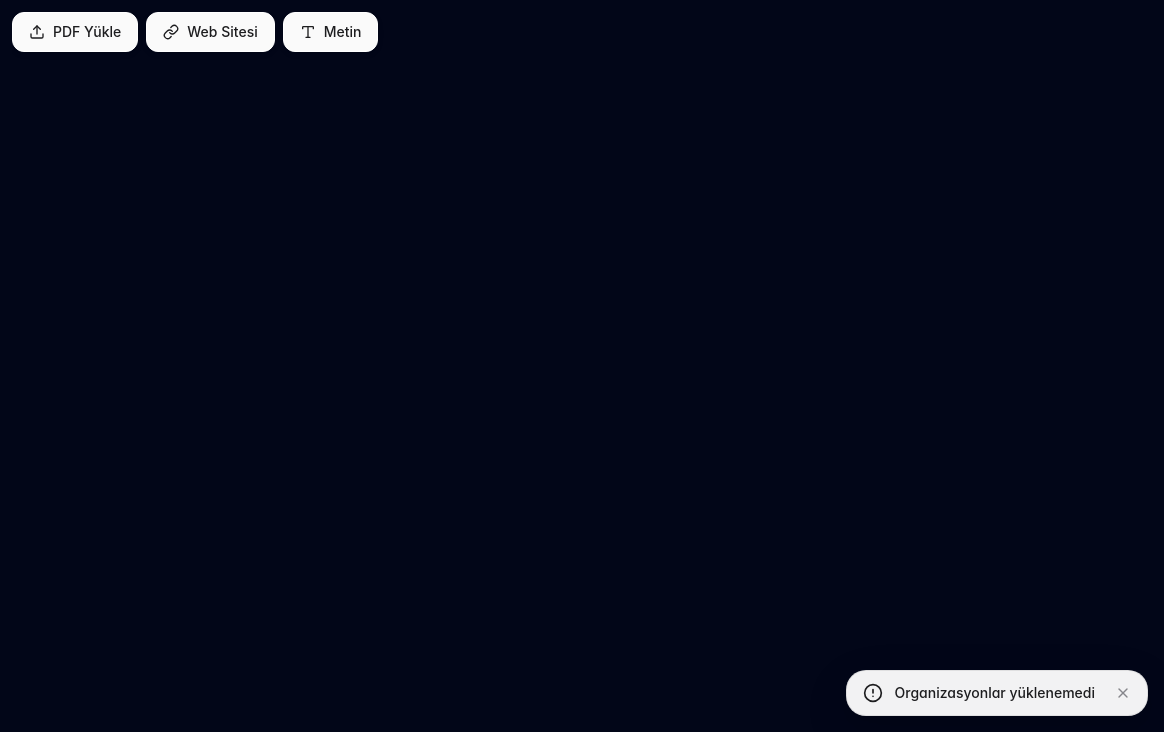
Test case: SourceUploader › validates URL format client-side and shows error toast
Click the button "Web Sitesi" at (210, 32), box [146,12,275,52]
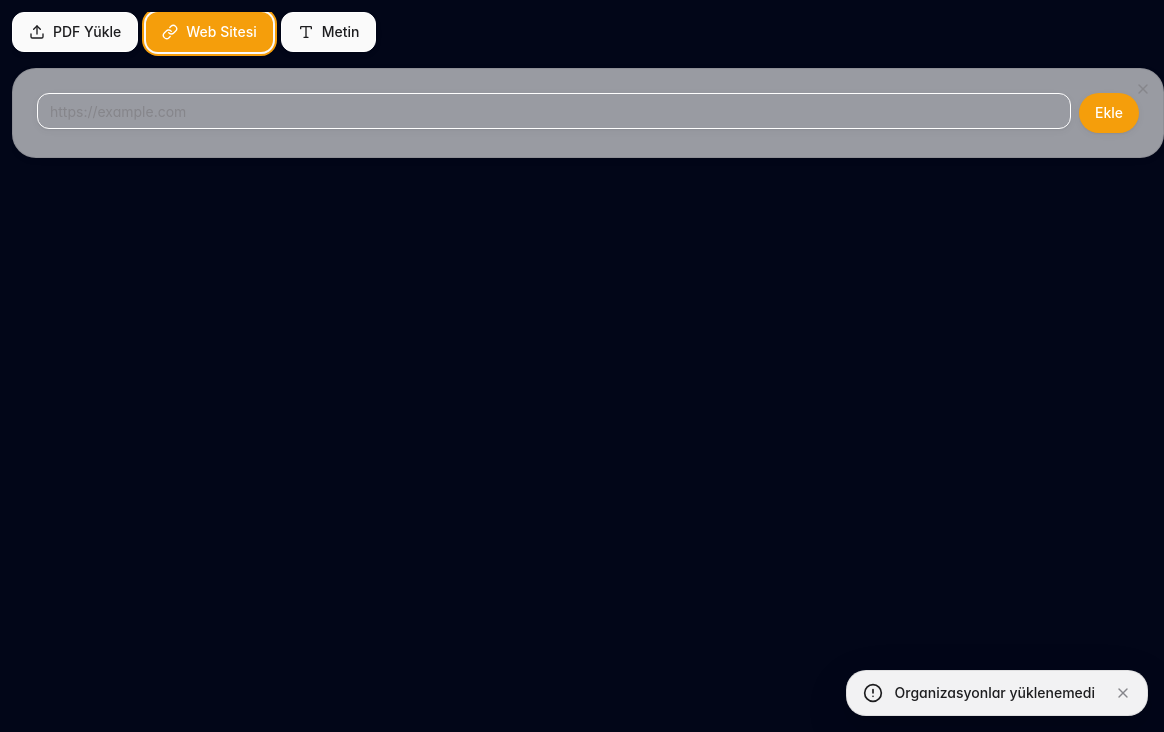
Type "not-a-url" into the field with placeholder "https://example.com" at (554, 111), box [37,93,1071,129]
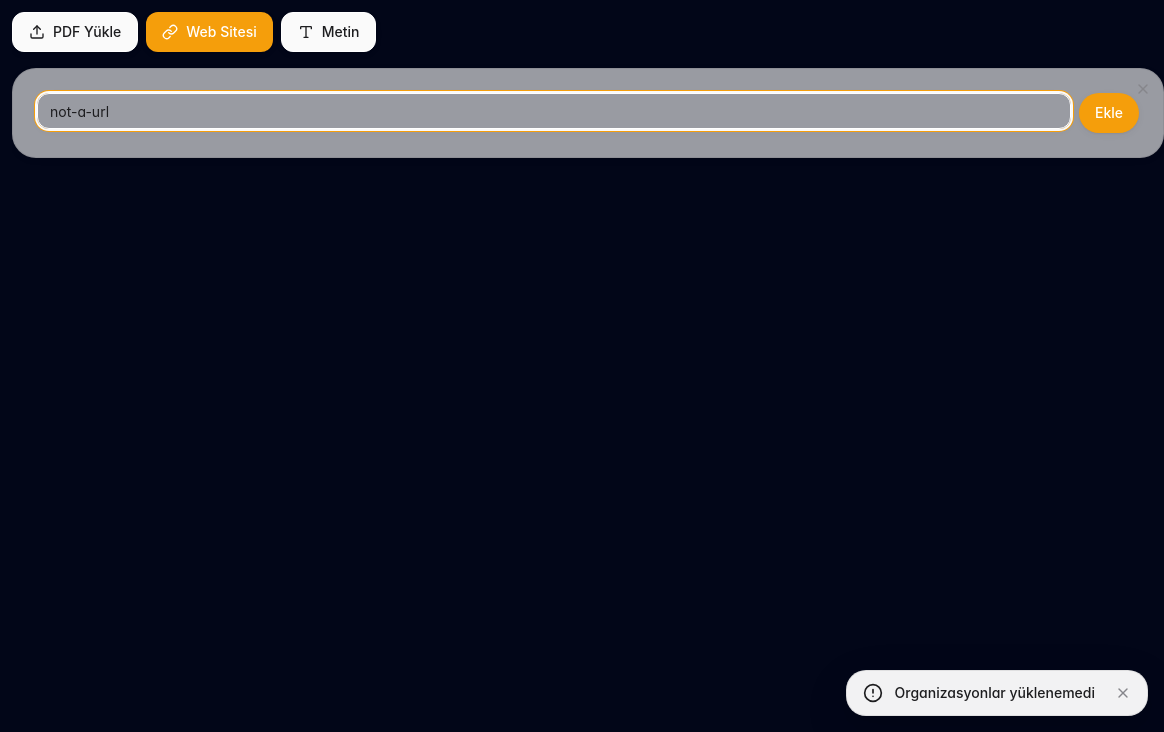
Click the button "Ekle" at (1109, 113), box [1079,93,1139,133]
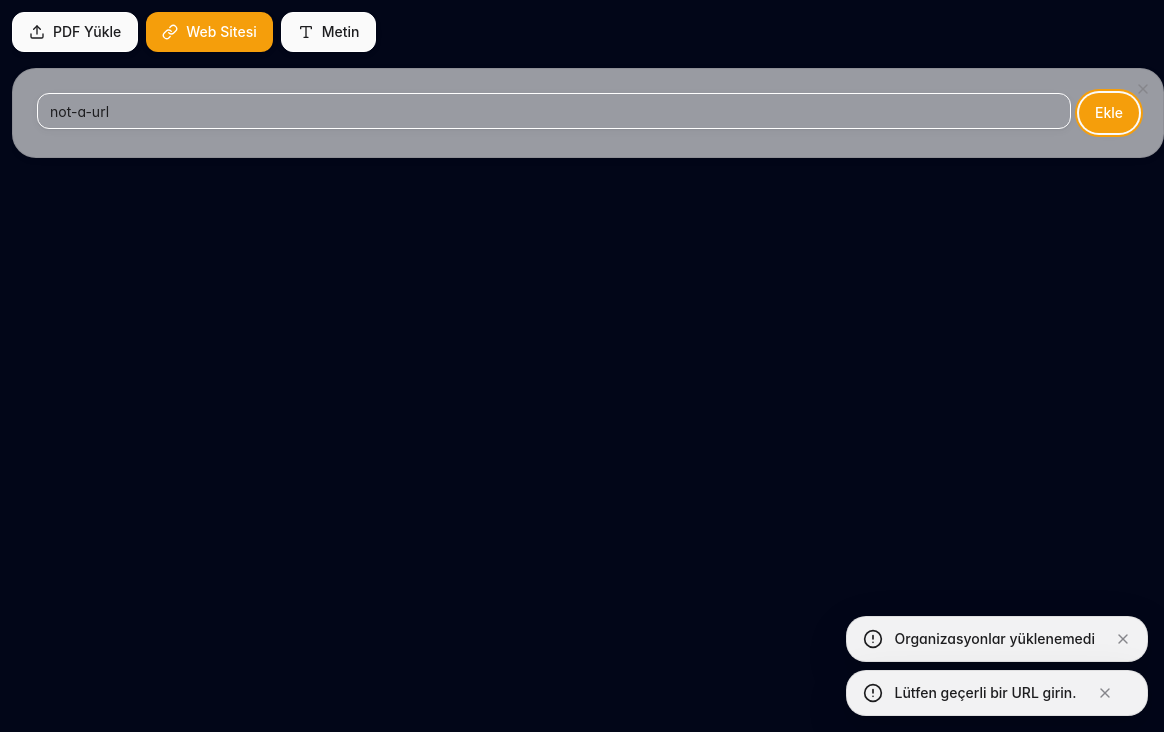
Expected: the text "Lütfen geçerli bir URL girin." is shown, [894,683,1076,703]
